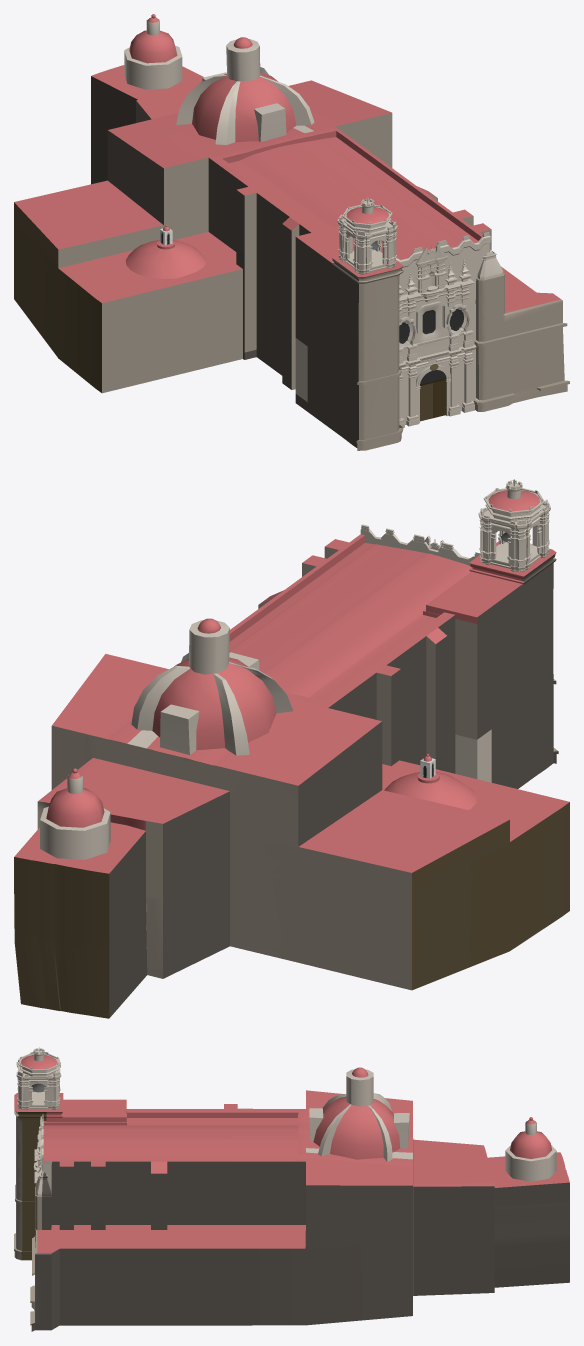
File: templo_y_exconvento_de_san_francisco.glb
The picture shows the model from 3 angles, top to bottom: view 1: azimuth 30°, elevation 25°; view 2: azimuth 150°, elevation 25°; view 3: azimuth 270°, elevation 25°; orthographic projection. The views are drawn at different scales.
Visible parts, largest first — view 1: Iglesia, cupula_Pricipal, Detalles, campanario1, pSphere5, cupula1; view 2: Iglesia, cupula_Pricipal, campanario1, pSphere5, cupula1; view 3: Iglesia, cupula_Pricipal, campanario1, pSphere5.
Boxes of the visible parts, left/top/right/bottom form: Iglesia: left=14, top=65, right=569, bottom=450; cupula_Pricipal: left=176, top=37, right=314, bottom=144; Detalles: left=399, top=243, right=476, bottom=427; campanario1: left=337, top=197, right=397, bottom=274; pSphere5: left=124, top=14, right=182, bottom=89; cupula1: left=125, top=225, right=206, bottom=278; Iglesia: left=14, top=524, right=569, bottom=1018; cupula_Pricipal: left=131, top=618, right=293, bottom=755; campanario1: left=478, top=479, right=550, bottom=572; pSphere5: left=40, top=768, right=110, bottom=859; cupula1: left=384, top=754, right=477, bottom=809; Iglesia: left=14, top=1090, right=569, bottom=1331; cupula_Pricipal: left=309, top=1067, right=409, bottom=1162; campanario1: left=16, top=1047, right=61, bottom=1109; pSphere5: left=505, top=1117, right=556, bottom=1181.
Bounding box in the file's own units: 24.04 × 15.95 × 38.43.
12 materials, 1 textured.
